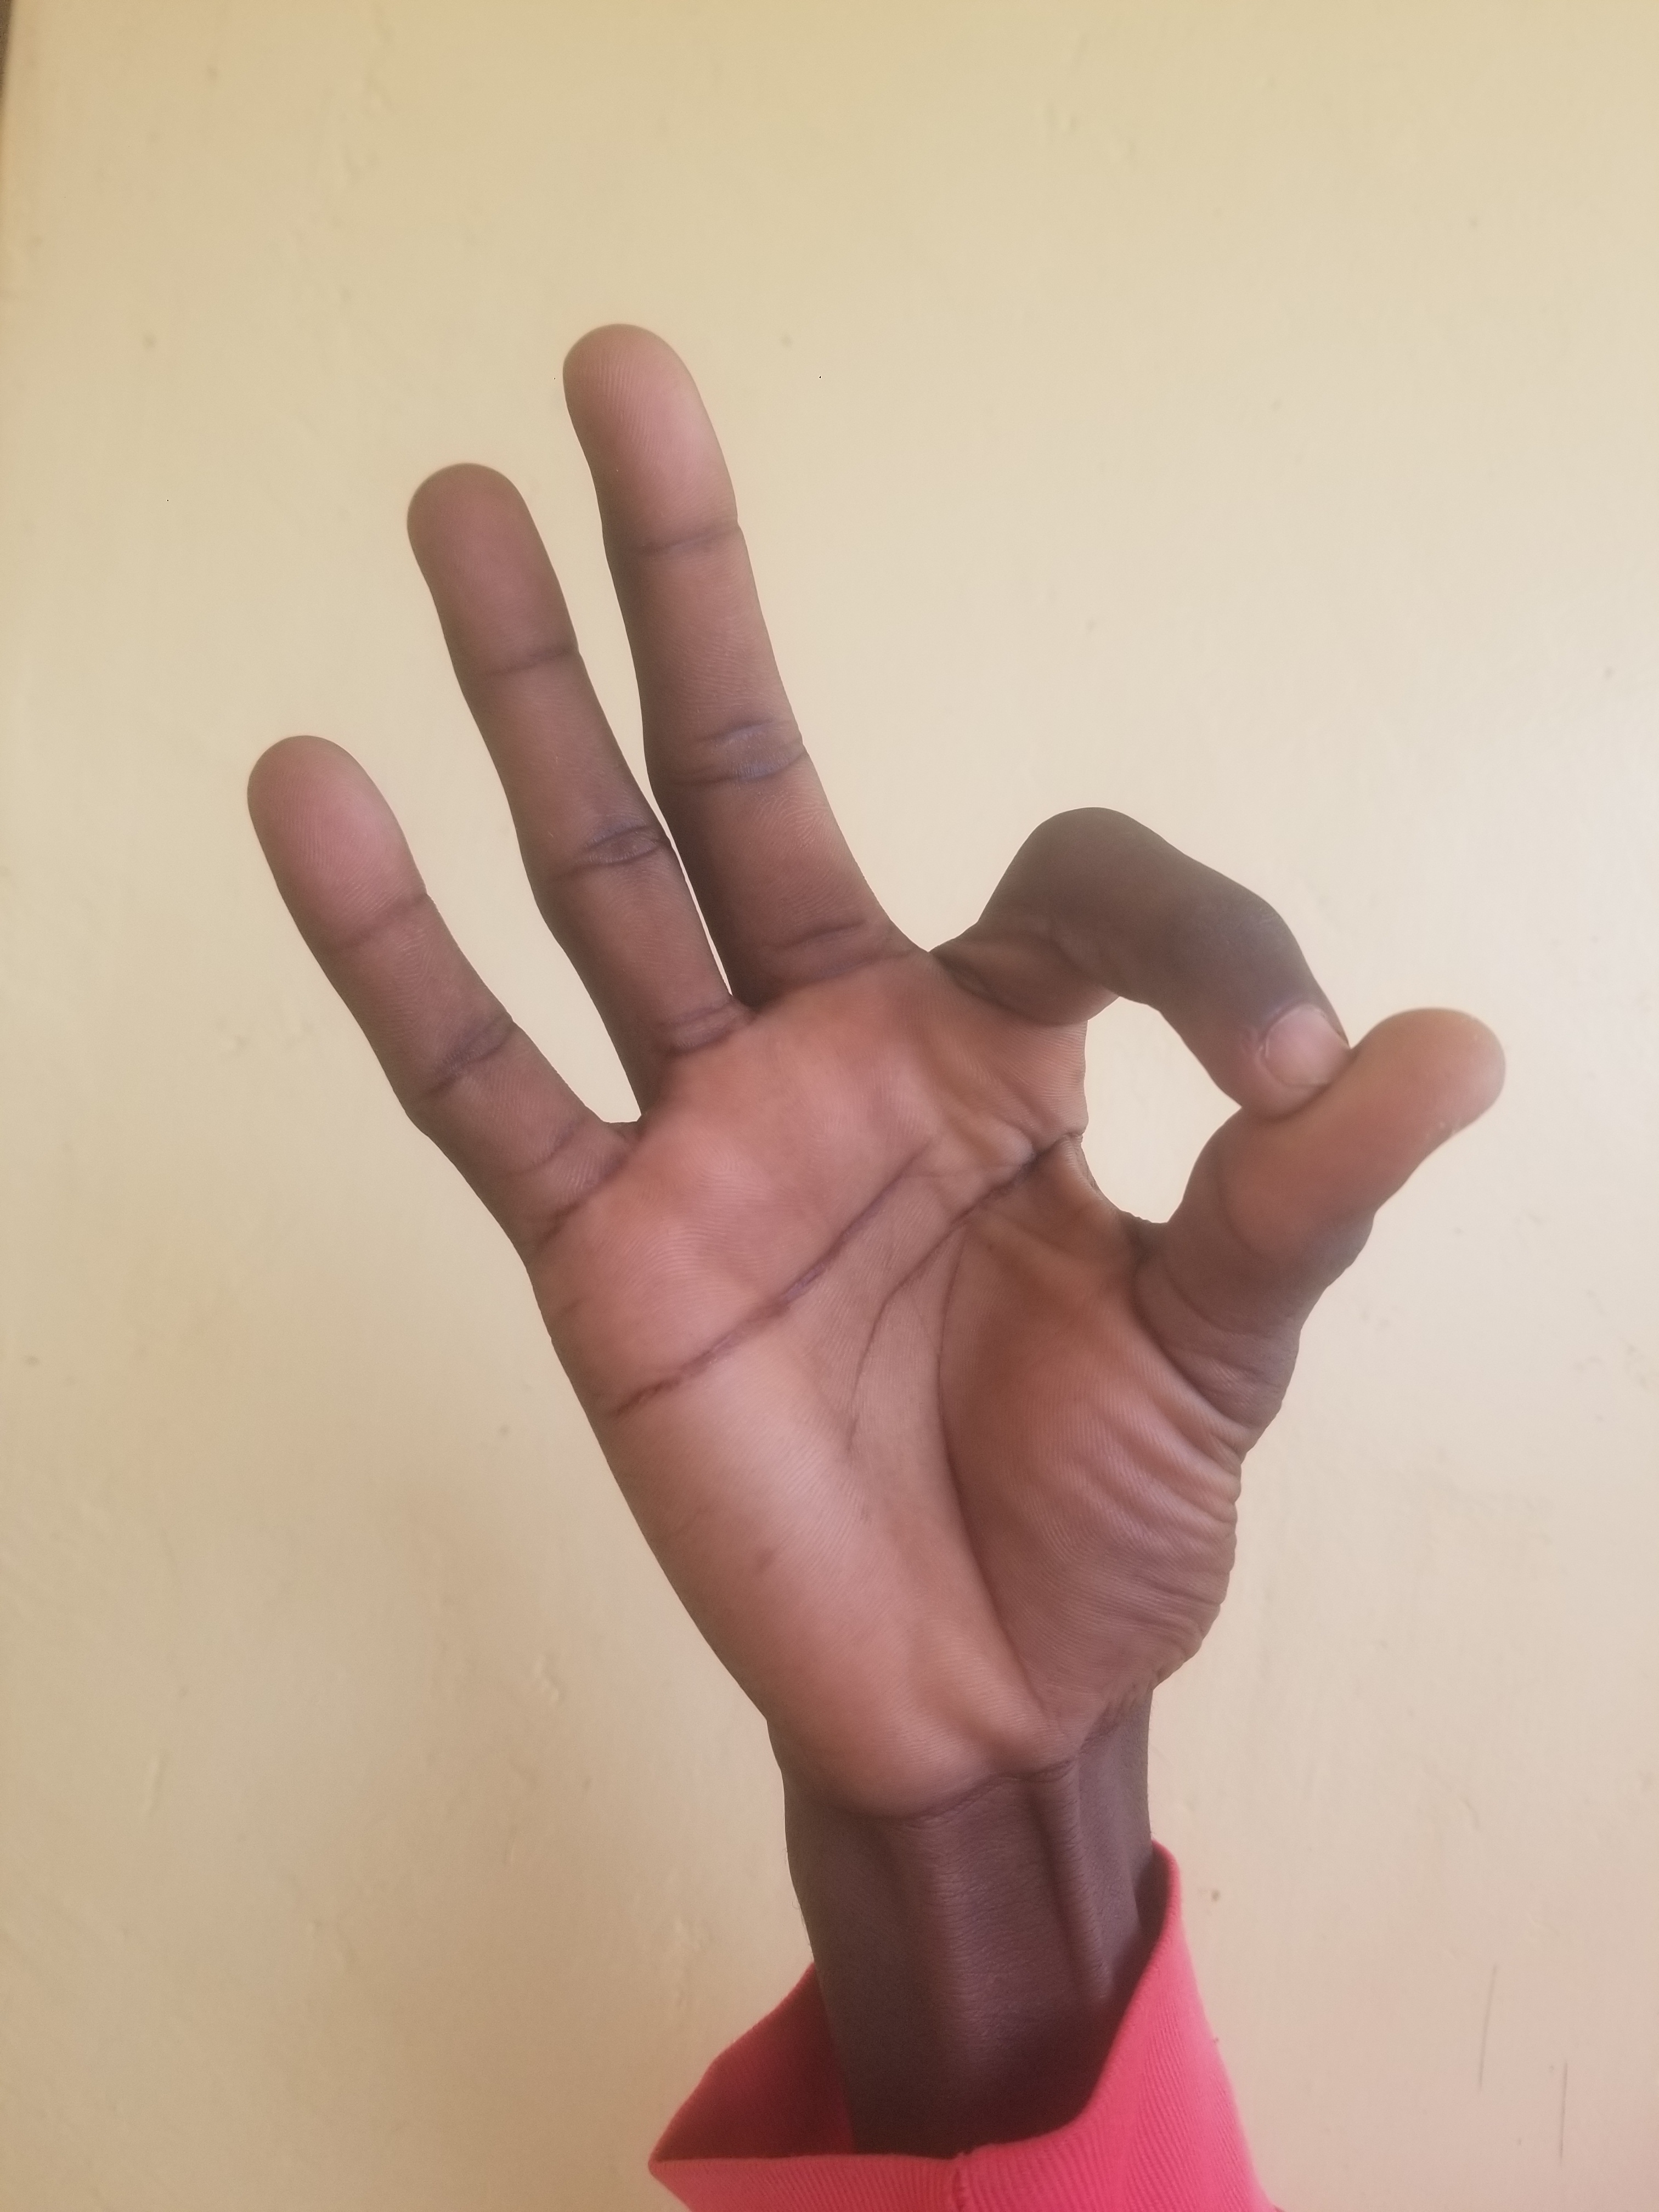ok: (192, 286, 1565, 1956)
